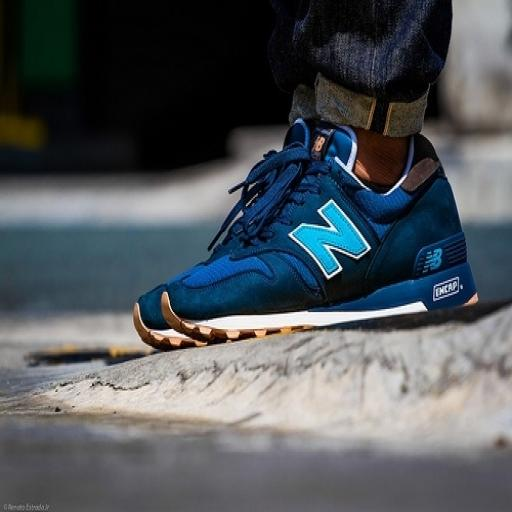shoe: (159, 123, 477, 343)
